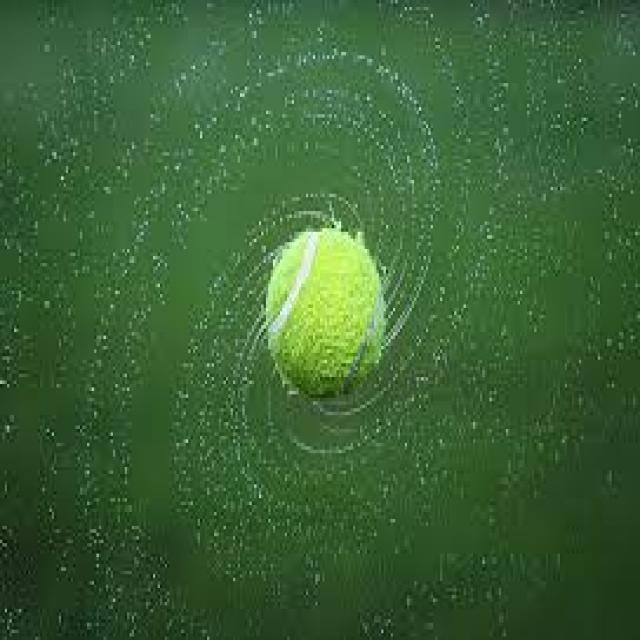Tennis-Ball: (266, 228, 384, 396)
